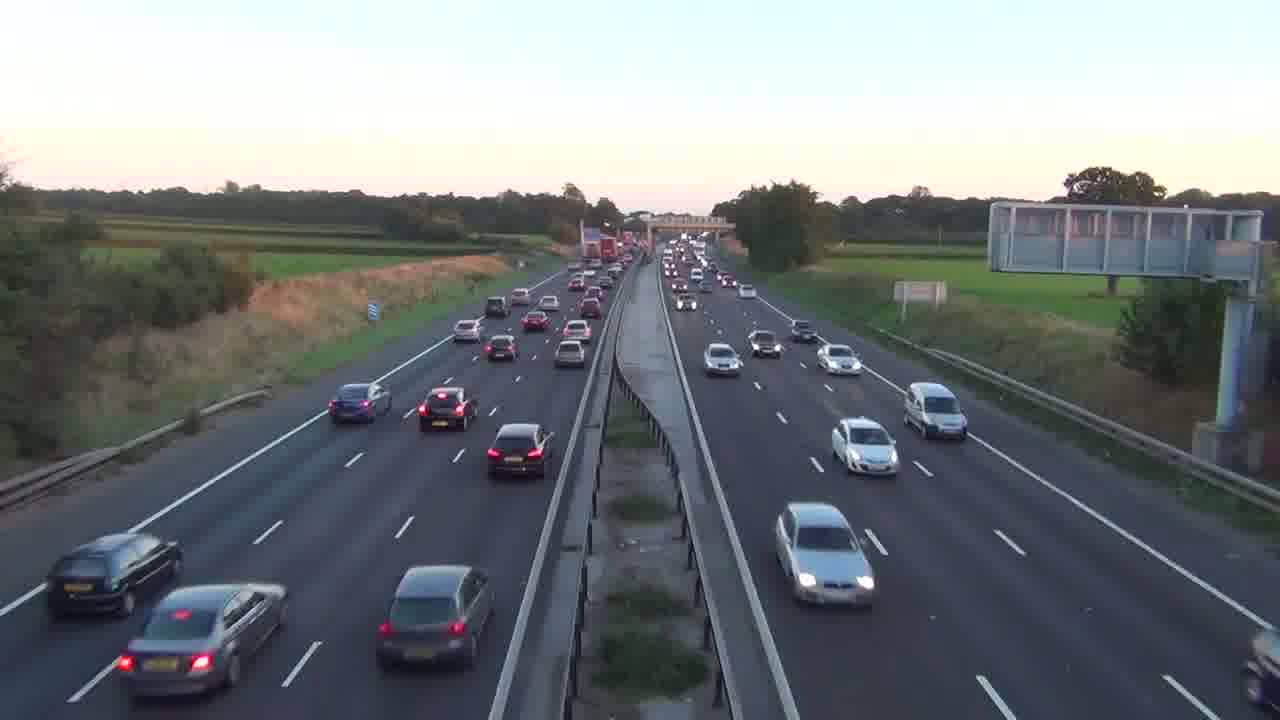car: (112, 580, 289, 703), (374, 563, 497, 671), (773, 501, 880, 608), (831, 416, 900, 478), (485, 422, 553, 480), (903, 381, 968, 441), (1240, 625, 1279, 717), (327, 381, 392, 424), (417, 385, 475, 431), (816, 344, 862, 375), (703, 343, 743, 377)
